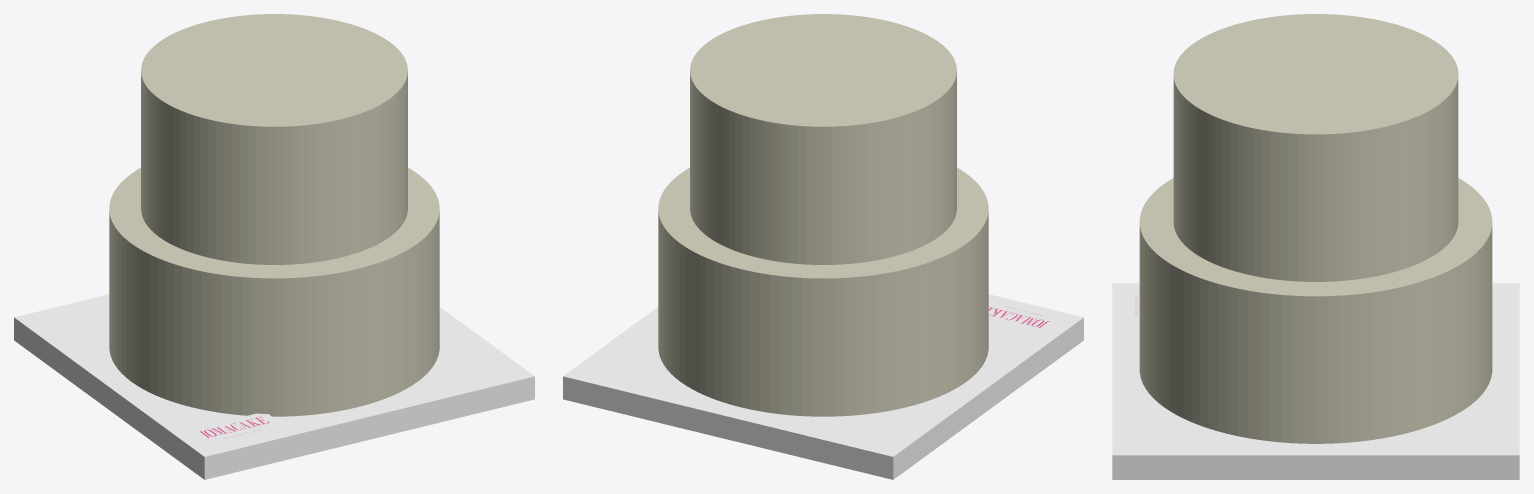
File: cake_tier2_10-8_layers3_v44.glb
The picture shows the model from 3 angles, left to right: view 1: azimuth 30°, elevation 25°; view 2: azimuth 150°, elevation 25°; view 3: azimuth 270°, elevation 25°; orthographic projection. The views are drawn at different scales.
Visible parts, largest first — view 1: Tier1, Tier0, Board, Logo; view 2: Tier1, Tier0, Board, Logo; view 3: Tier1, Tier0, Board, Logo.
Boxes of the visible parts, bbox=[...] form: Tier1: bbox=[141, 14, 407, 264]; Tier0: bbox=[109, 168, 439, 416]; Board: bbox=[14, 294, 534, 479]; Logo: bbox=[186, 413, 287, 447]; Tier1: bbox=[690, 14, 956, 264]; Tier0: bbox=[658, 168, 988, 416]; Board: bbox=[563, 294, 1083, 479]; Logo: bbox=[988, 297, 1067, 333]; Tier1: bbox=[1173, 14, 1458, 281]; Tier0: bbox=[1139, 178, 1492, 443]; Board: bbox=[1112, 283, 1519, 479]; Logo: bbox=[1124, 285, 1139, 326].
Size of the model in its own units: 0.3 by 0.26 by 0.3.
